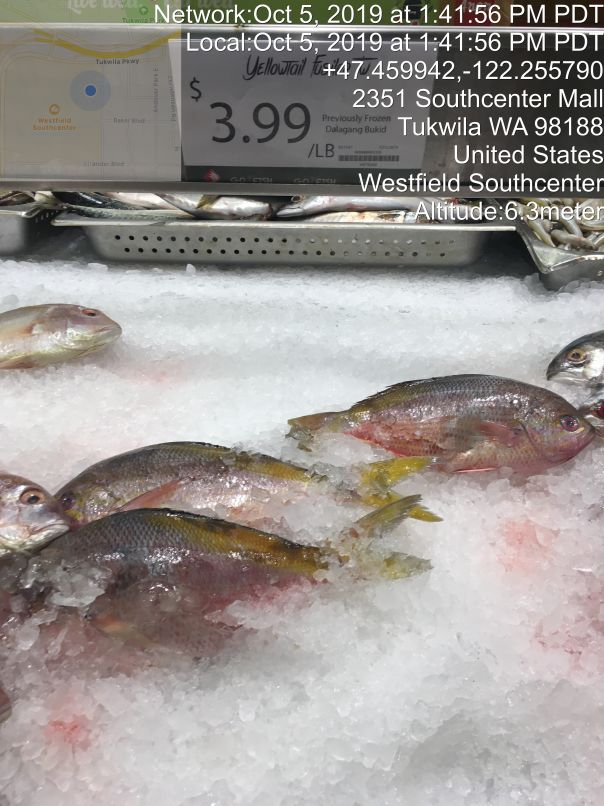Label: (166, 16, 447, 207)
Location: (346, 80, 604, 196)
Time: (146, 1, 604, 62)
Yellowtail Fish: (276, 356, 593, 498), (61, 414, 378, 556), (8, 511, 325, 653), (1, 273, 131, 409), (1, 434, 85, 570)
